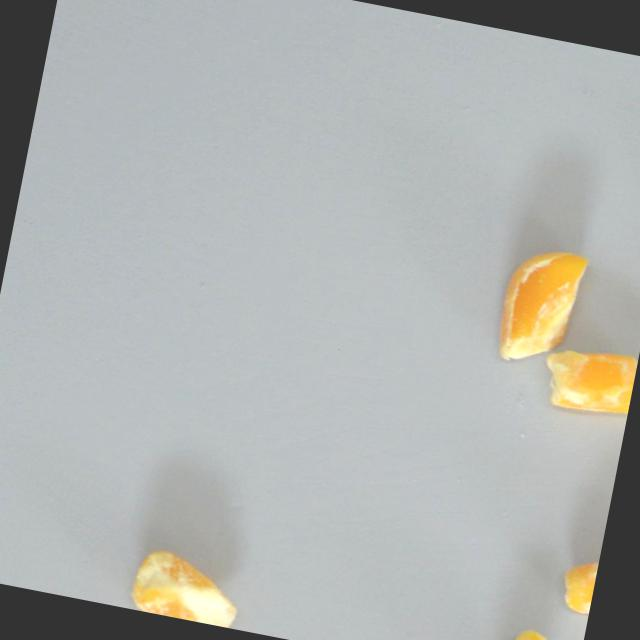pelicula: (494, 241, 591, 371), (128, 544, 247, 629), (538, 339, 639, 421), (558, 543, 601, 616), (496, 622, 561, 640)
